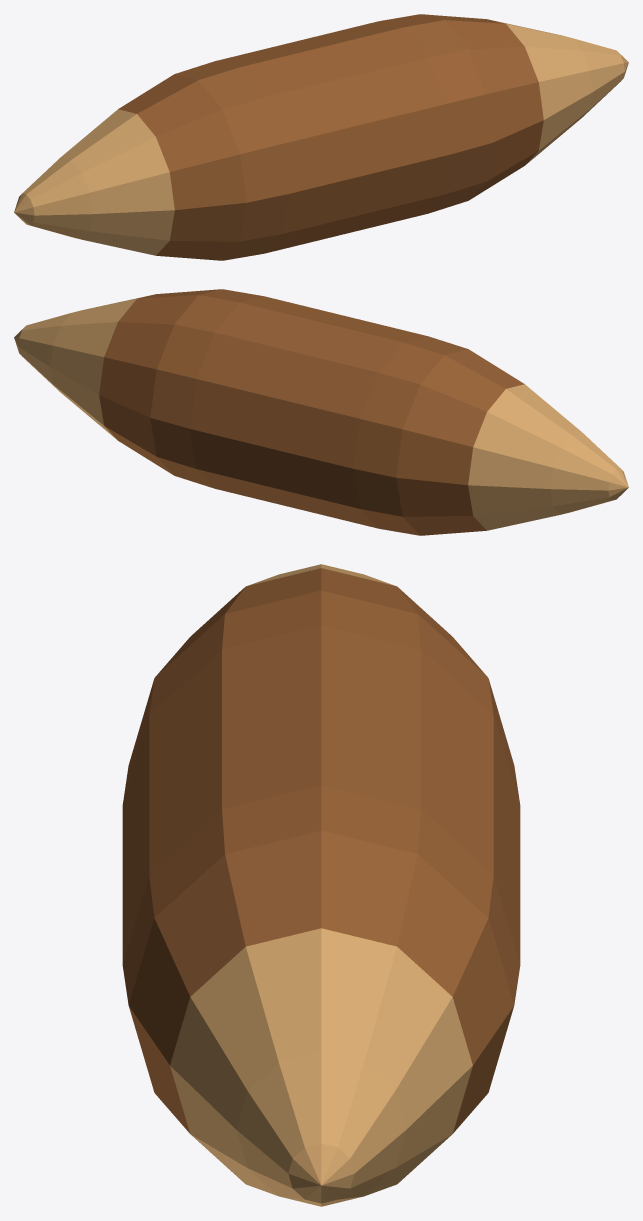
The model's file is gulli-classic.glb.
3 views of the same model, one above another, from view 1: azimuth 30°, elevation 25°; view 2: azimuth 150°, elevation 25°; view 3: azimuth 270°, elevation 25° (orthographic). The views are drawn at different scales.
Visible parts, largest first — view 1: GulliClassic_Body, GulliClassic_Tips; view 2: GulliClassic_Body, GulliClassic_Tips; view 3: GulliClassic_Body, GulliClassic_Tips.
Boxes of the visible parts, x1,y1,x2,y2 form: GulliClassic_Body: [118, 14, 543, 260]; GulliClassic_Tips: [14, 20, 628, 255]; GulliClassic_Body: [99, 289, 524, 535]; GulliClassic_Tips: [14, 295, 628, 530]; GulliClassic_Body: [122, 568, 520, 1181]; GulliClassic_Tips: [170, 564, 472, 1206].
Size of the model in its own units: 1.5 by 0.42 by 0.42.
